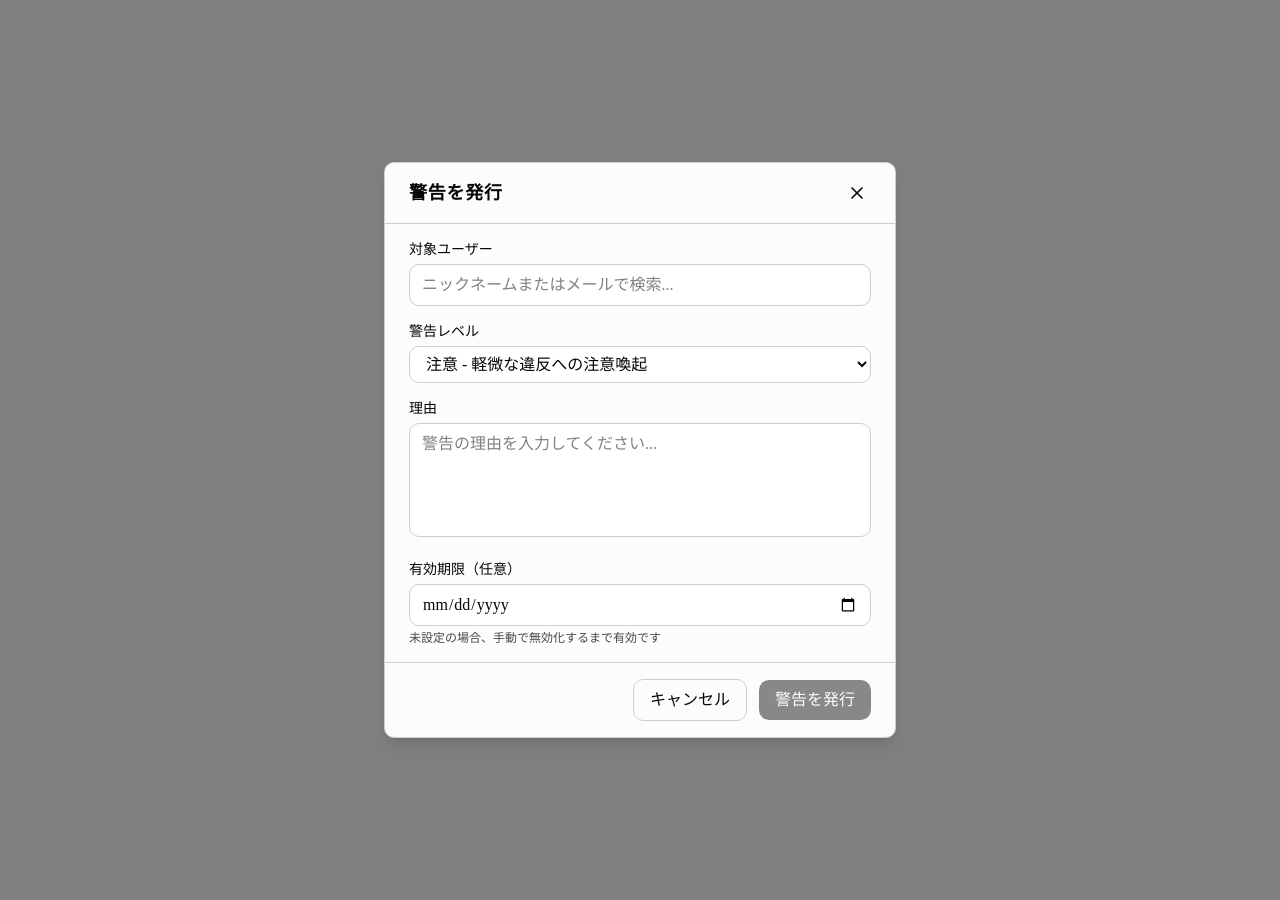
Test case: IssueWarningDialog › searches users and shows results
Type "test" into the field with placeholder "ニックネームまたはメールで検索...". click: (640, 285)
box: [409,264,871,306]
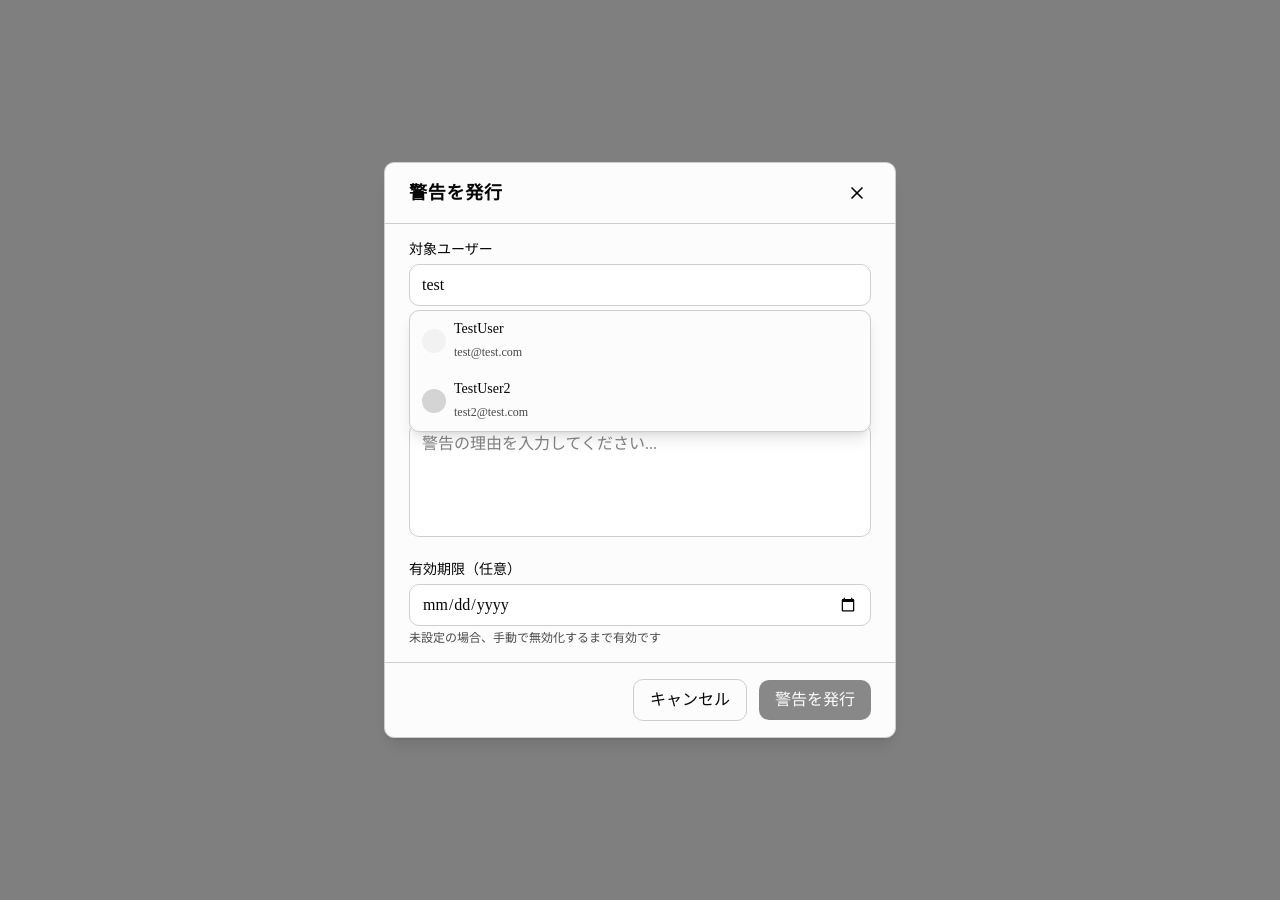
Check: the text "TestUser" is shown, box [454,321,504,336]
Check: the text "TestUser2" is shown, box [454,381,511,396]
